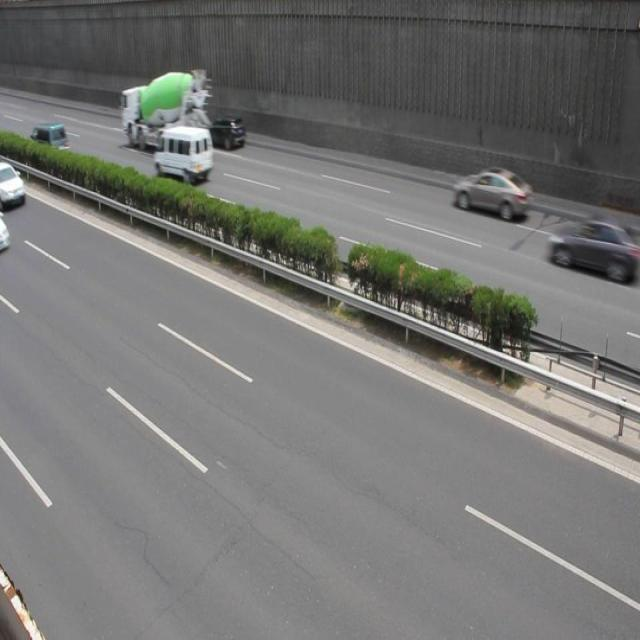bus: (121, 71, 209, 154)
car: (546, 216, 640, 281), (451, 167, 530, 225), (206, 116, 246, 152), (1, 158, 26, 208)
truck: (153, 124, 215, 184), (28, 122, 70, 162)
